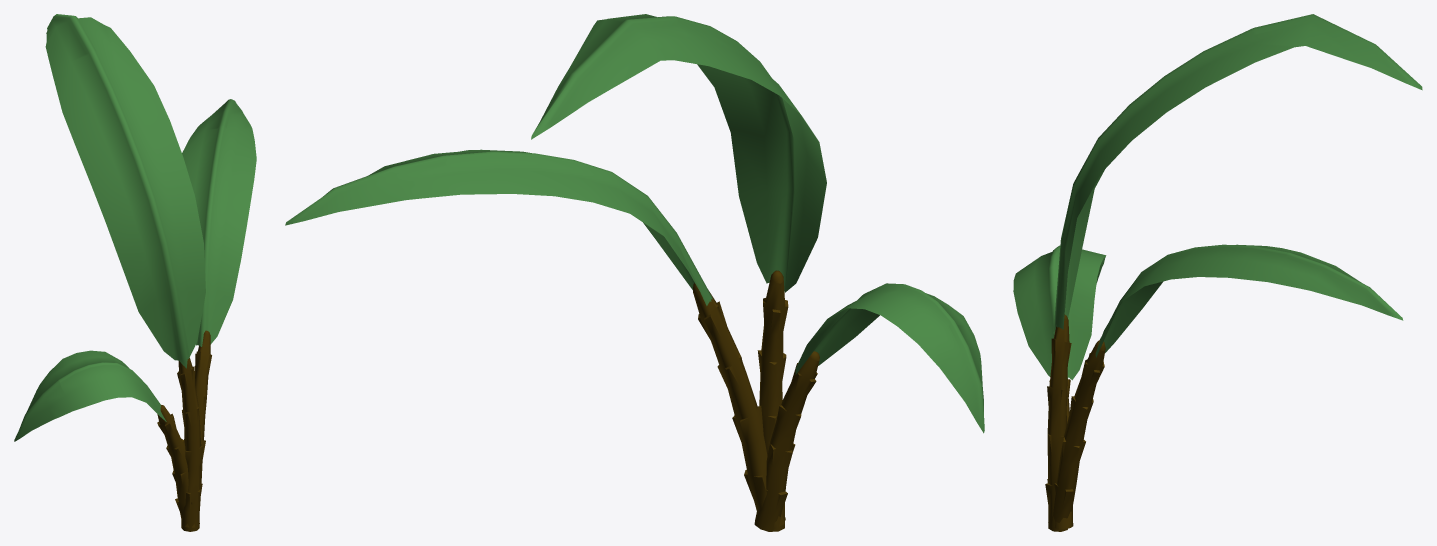
Rendered from LeafBranch.fbx.
The picture shows the model from 3 angles, left to right: view 1: azimuth 30°, elevation 25°; view 2: azimuth 150°, elevation 25°; view 3: azimuth 270°, elevation 25°; orthographic projection. The views are drawn at different scales.
Visible parts, largest first — view 1: LeafBranch; view 2: LeafBranch; view 3: LeafBranch.
Boxes of the visible parts, left/top/right/bottom form: LeafBranch: left=14, top=14, right=256, bottom=531; LeafBranch: left=285, top=14, right=984, bottom=531; LeafBranch: left=1013, top=14, right=1422, bottom=531.
Size of the model in its own units: 226 by 265 by 193.
